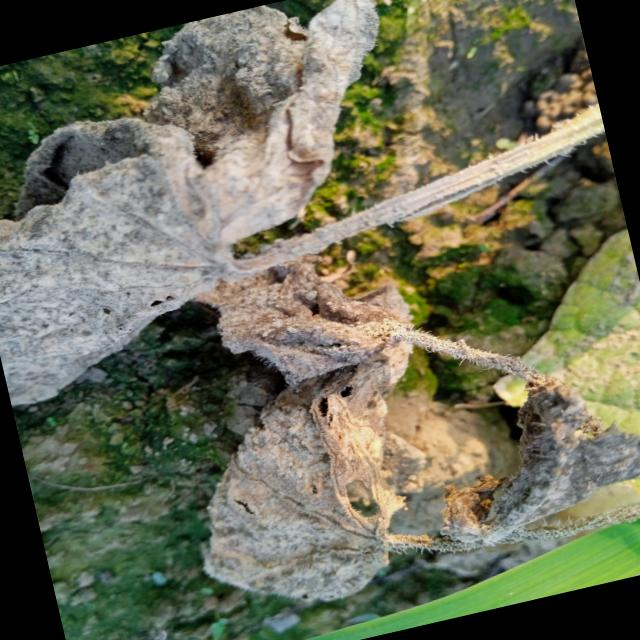cucumber_bacterial: (0, 0, 441, 398), (162, 367, 452, 630), (180, 229, 434, 407), (424, 370, 640, 559)
